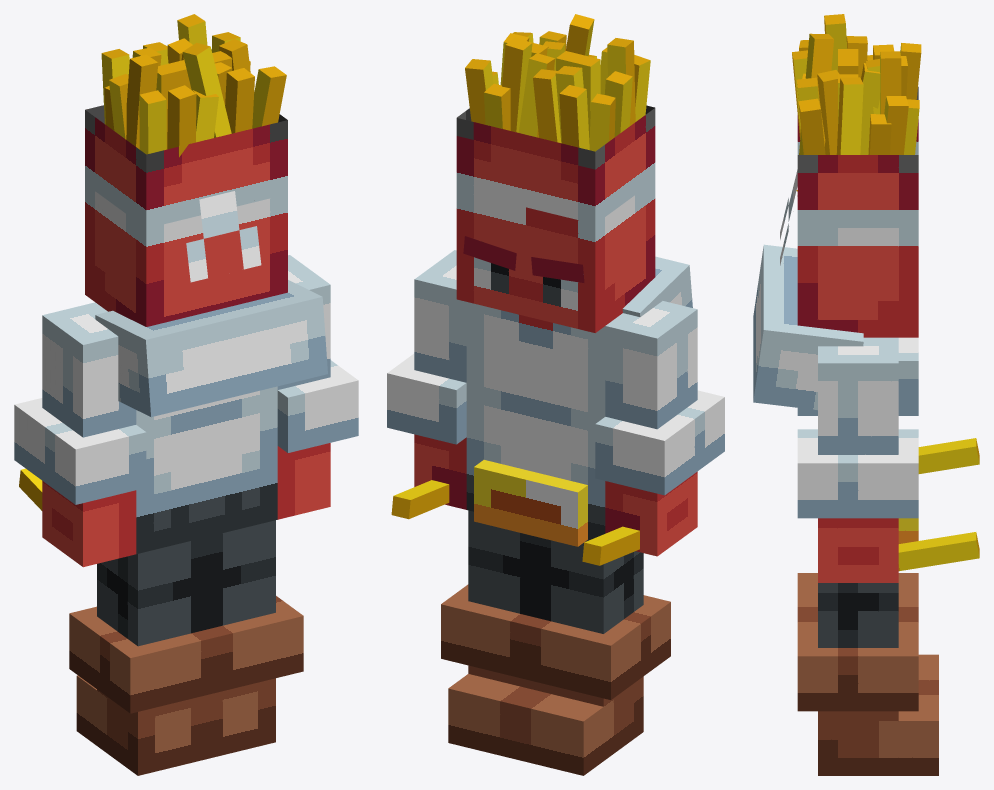
File: Fries King Costume C18.gltf
3 renders of one model, left to right at view 1: azimuth 30°, elevation 25°; view 2: azimuth 150°, elevation 25°; view 3: azimuth 270°, elevation 25°, orthographic.
Visible parts, largest first — view 1: body (×2), helmet (×15), head, leftLeg, leftArm, rightLeg, leftLegging, leftArmArmor (×2), rightLegging, rightArmArmor, rightArm, leftBoot; view 2: body (×3), helmet (×15), head (×3), leftArm, leftLeg, leftArmArmor (×2), leftLegging, rightArm, rightArmArmor (×2), leftBoot, rightLeg, rightLegging (+1 smaller); view 3: helmet (×15), rightArm, head, rightArmArmor (×2), rightLeg, body (×2), rightLegging, leftArmArmor (×2), rightBoot, leftLegging, leftBoot.
Part boxes in pixels (left/top/right/bottom): body (×2): left=95, top=280, right=327, bottom=553; helmet (×15): left=85, top=14, right=287, bottom=282; head: left=85, top=184, right=287, bottom=326; leftLeg: left=97, top=536, right=208, bottom=775; leftArm: left=42, top=302, right=136, bottom=567; rightLeg: left=205, top=520, right=275, bottom=758; leftLegging: left=69, top=606, right=218, bottom=713; leftArmArmor (×2): left=14, top=398, right=146, bottom=510; rightLegging: left=205, top=596, right=303, bottom=692; rightArmArmor: left=277, top=360, right=358, bottom=452; rightArm: left=277, top=255, right=330, bottom=519; leftBoot: left=76, top=675, right=96, bottom=745; body (×3): left=466, top=256, right=692, bottom=546; helmet (×15): left=456, top=14, right=655, bottom=223; head (×3): left=456, top=181, right=655, bottom=332; leftArm: left=605, top=301, right=697, bottom=556; leftLeg: left=534, top=536, right=643, bottom=760; leftArmArmor (×2): left=582, top=390, right=724, bottom=565; leftLegging: left=524, top=595, right=670, bottom=699; rightArm: left=414, top=250, right=466, bottom=509; rightArmArmor (×2): left=387, top=353, right=466, bottom=519; leftBoot: left=514, top=690, right=603, bottom=775; rightLeg: left=468, top=510, right=536, bottom=689; rightLegging: left=441, top=584, right=535, bottom=678; helmet (×15): left=792, top=14, right=921, bottom=227; rightArm: left=818, top=337, right=898, bottom=582; head: left=797, top=228, right=918, bottom=337; rightArmArmor (×2): left=797, top=429, right=979, bottom=571; rightLeg: left=818, top=583, right=898, bottom=775; body (×2): left=753, top=244, right=918, bottom=543; rightLegging: left=797, top=613, right=918, bottom=711; leftArmArmor (×2): left=797, top=337, right=979, bottom=473; rightBoot: left=898, top=687, right=938, bottom=775; leftLegging: left=797, top=573, right=918, bottom=613; leftBoot: left=918, top=654, right=938, bottom=686.
Bounding box in the file's own units: 1 × 2.41 × 0.7015.
1 material, 1 textured.
